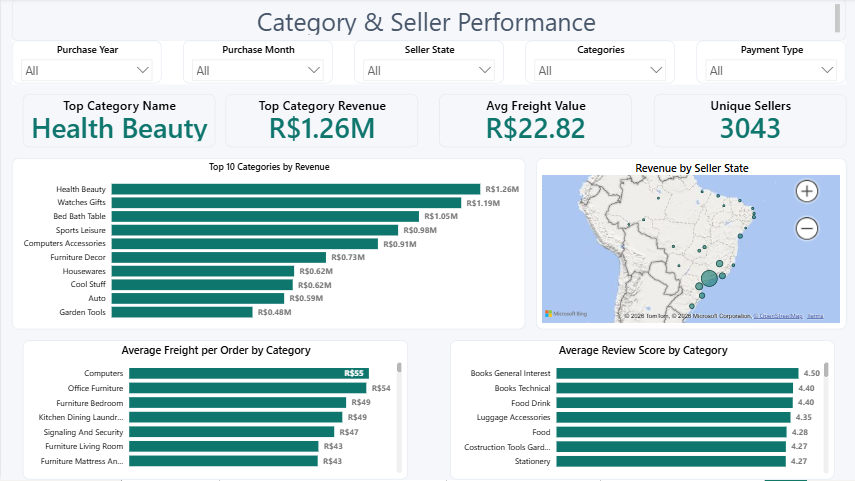

Layout of this report page (visuals, bound fields, positions):
{"tool":"powerbi","page":{"name":"Category & Seller Performance","canvas":[1280,720],"ordinal":1},"visuals":[{"type":"slicer","title":"Purchase Year","fields":{"Values":["Sheet1.order_purchase_year"]},"box":[16,64,224,64],"z":0,"group":"g1"},{"type":"card","title":"Top Category Revenue","fields":{"Values":["Sheet1.Top_category_revenue"]},"box":[336,144,288,80],"z":0},{"type":"card","title":"Top Category Name","fields":{"Values":["Sheet1.Top_category_name"]},"box":[32,144,288,80],"z":1000},{"type":"slicer","title":"Purchase Month","fields":{"Values":["Sheet1.order_purchase_month_name"]},"box":[272,64,224,64],"z":2000,"group":"g1"},{"type":"card","title":"Avg Freight Value","fields":{"Values":["Sheet1.Avg Frieght Value"]},"box":[656,144,288,80],"z":2000},{"type":"card","title":"Unique Sellers","fields":{"Values":["Sheet1.Unique Sellers"]},"box":[976,144,288,80],"z":3000},{"type":"textbox","box":[16,0,1248,64],"z":4000},{"type":"slicer","title":"Seller State","fields":{"Values":["Sheet1.main_seller_state"]},"box":[528,64,224,64],"z":4000,"group":"g1"},{"type":"clusteredBarChart","title":"Top 10 Categories by Revenue","fields":{"Category":["Sheet1.main_category"],"Y":["Sum(Sheet1.order_revenue)"]},"box":[16,240,768,256],"z":5000},{"type":"slicer","title":"Categories","fields":{"Values":["Sheet1.main_category"]},"box":[784,64,224,64],"z":6000,"group":"g1"},{"type":"map","title":"Revenue by Seller State","fields":{"Category":["Sheet1.Seller_st"],"Size":["Sum(Sheet1.order_revenue)"]},"box":[800,240,464,256],"z":6000},{"type":"barChart","title":"Average Freight per Order by Category","fields":{"Category":["Sheet1.main_category"],"Y":["Avg(Sheet1.total_freight_value)"]},"box":[32,512,576,208],"z":7000},{"type":"slicer","title":"Payment Type","fields":{"Values":["Sheet1.main_payment_type"]},"box":[1040,64,224,64],"z":8000,"group":"g1"},{"type":"clusteredBarChart","title":"Average Review Score by Category","fields":{"Category":["Sheet1.main_category"],"Y":["Avg(Sheet1.review_score)"]},"box":[671.7,512,575.6,208.7],"z":8000},{"type":"group","id":"g1","title":"Group 1","box":[16,64,1248,64],"z":9000}]}

Visuals, with their boxes in screenshot pixels (x1, y1, x2, y2), scaled from the page's 1280x720 canvas onto the 855x481 screenshot:
"Purchase Year" slicer: (left=11, top=43, right=160, bottom=86)
"Top Category Revenue" card: (left=224, top=96, right=417, bottom=150)
"Top Category Name" card: (left=21, top=96, right=214, bottom=150)
"Purchase Month" slicer: (left=182, top=43, right=331, bottom=86)
"Avg Freight Value" card: (left=438, top=96, right=631, bottom=150)
"Unique Sellers" card: (left=652, top=96, right=844, bottom=150)
textbox: (left=11, top=0, right=844, bottom=43)
"Seller State" slicer: (left=353, top=43, right=502, bottom=86)
"Top 10 Categories by Revenue" clusteredBarChart: (left=11, top=160, right=524, bottom=331)
"Categories" slicer: (left=524, top=43, right=673, bottom=86)
"Revenue by Seller State" map: (left=534, top=160, right=844, bottom=331)
"Average Freight per Order by Category" barChart: (left=21, top=342, right=406, bottom=480)
"Payment Type" slicer: (left=695, top=43, right=844, bottom=86)
"Average Review Score by Category" clusteredBarChart: (left=449, top=342, right=833, bottom=480)
"Group 1" group: (left=11, top=43, right=844, bottom=86)
